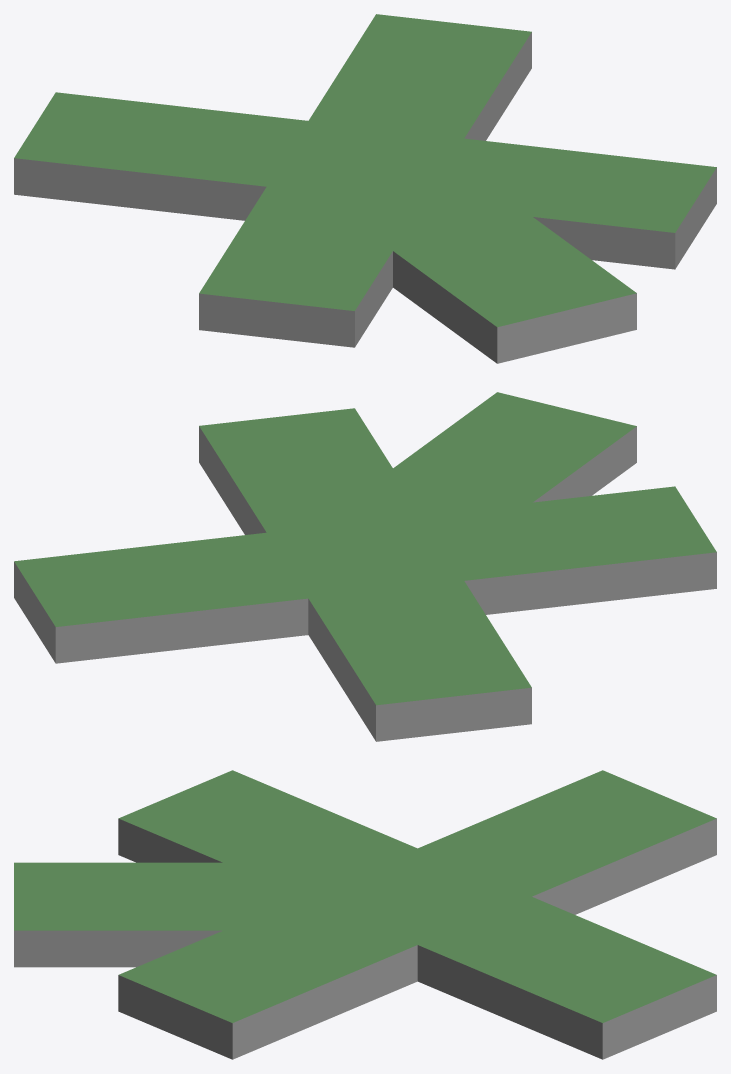
Rendered from Lab_block_DiagonalCorner_5.fbx.
3 renders of one model, top to bottom at view 1: azimuth 30°, elevation 25°; view 2: azimuth 150°, elevation 25°; view 3: azimuth 270°, elevation 25°, orthographic.
Visible parts, largest first — view 1: DiogonalCorner_5; view 2: DiogonalCorner_5; view 3: DiogonalCorner_5.
Part boxes in pixels (x1,y1,x2,y2): DiogonalCorner_5: (14,14,716,363); DiogonalCorner_5: (14,392,716,741); DiogonalCorner_5: (14,770,716,1059).
Bounding box in the file's own units: 7.41 × 0.5 × 8.71.
